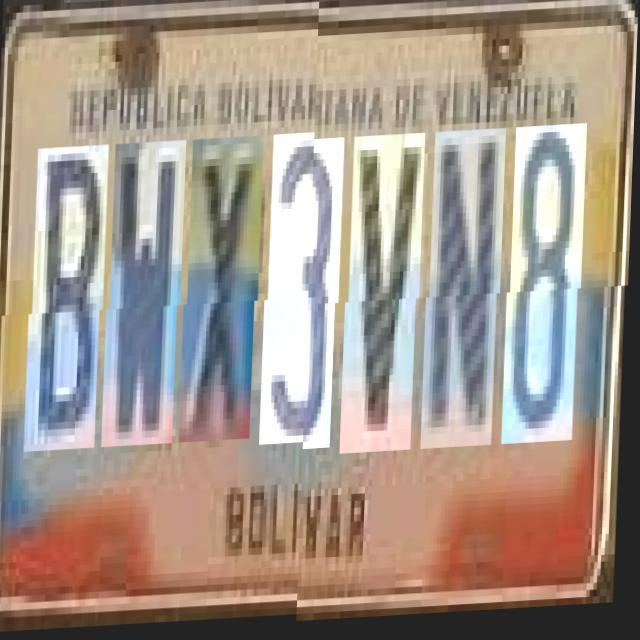3: (266, 142, 346, 455)
8: (508, 130, 588, 450)
B: (30, 153, 110, 459)
N: (428, 134, 508, 454)
V: (347, 138, 427, 458)
W: (108, 149, 187, 455)
X: (186, 146, 264, 452)
